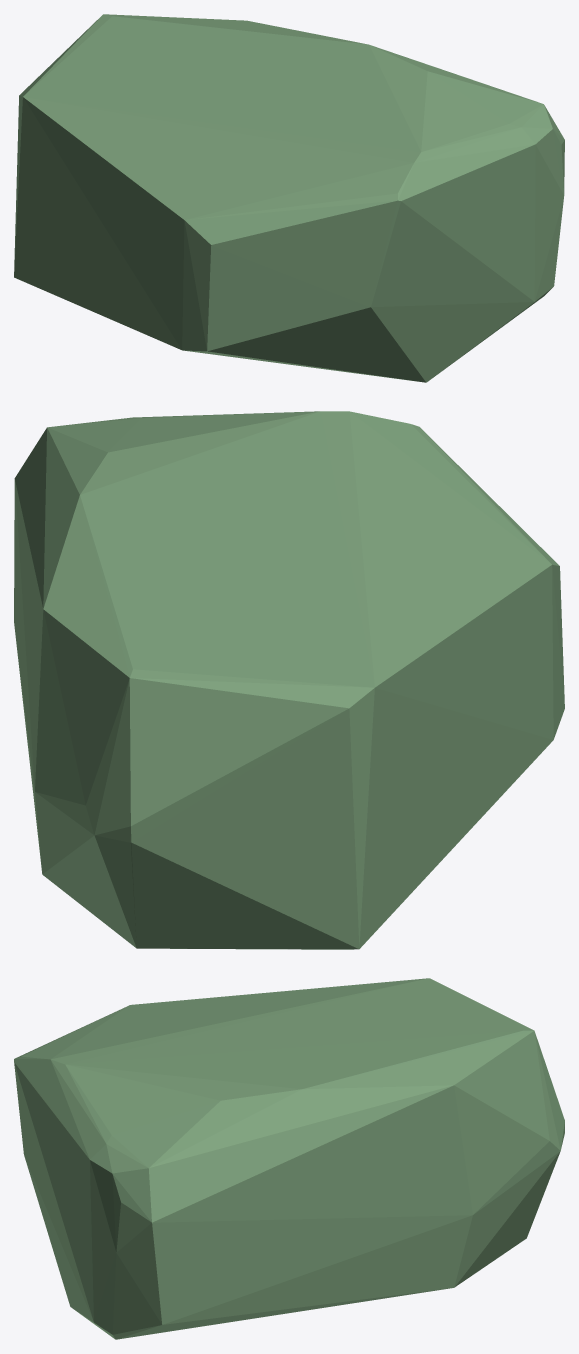
File: ultrasound_a01.glb
3 renders of one model, top to bottom at view 1: azimuth 30°, elevation 25°; view 2: azimuth 150°, elevation 25°; view 3: azimuth 270°, elevation 25°, orthographic. The views are drawn at different scales.
Parts seen in each view (by area): view 1: geometry_0; view 2: geometry_0; view 3: geometry_0.
Boxes of the visible parts, bbox=[...] form: geometry_0: bbox=[14, 14, 564, 382]; geometry_0: bbox=[14, 411, 564, 949]; geometry_0: bbox=[14, 978, 564, 1339].
Bounding box in the file's own units: 0.4143 × 0.236 × 0.4786.
